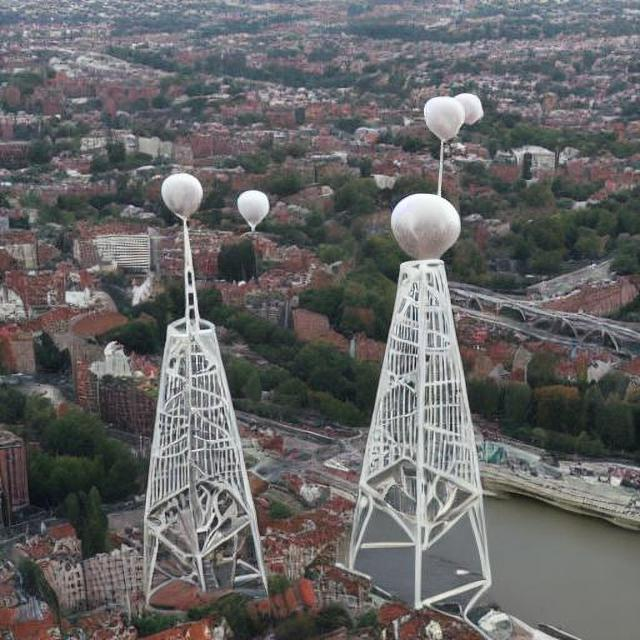balloon: (409, 86, 493, 162), (385, 189, 461, 259), (157, 169, 202, 219), (234, 187, 268, 231)
